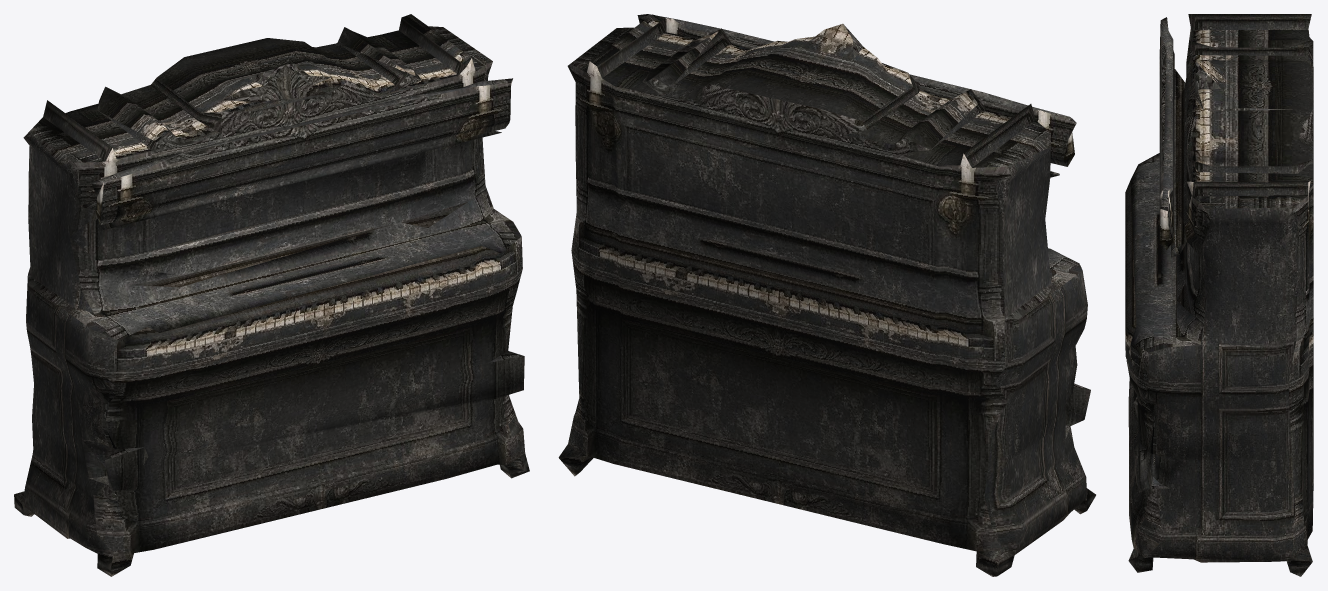
The model's file is piano_high.glb.
The picture shows the model from 3 angles, left to right: view 1: azimuth 30°, elevation 25°; view 2: azimuth 150°, elevation 25°; view 3: azimuth 270°, elevation 25°; orthographic projection. The views are drawn at different scales.
Visible parts, largest first — view 1: piano_high; view 2: piano_high; view 3: piano_high.
Boxes of the visible parts, <box> form: piano_high: <box>14,14,529,576</box>; piano_high: <box>558,14,1095,576</box>; piano_high: <box>1125,14,1313,576</box>.
Bounding box in the file's own units: 1.49 × 1.45 × 0.5861.
Materials: 1 (1 with a texture image).
